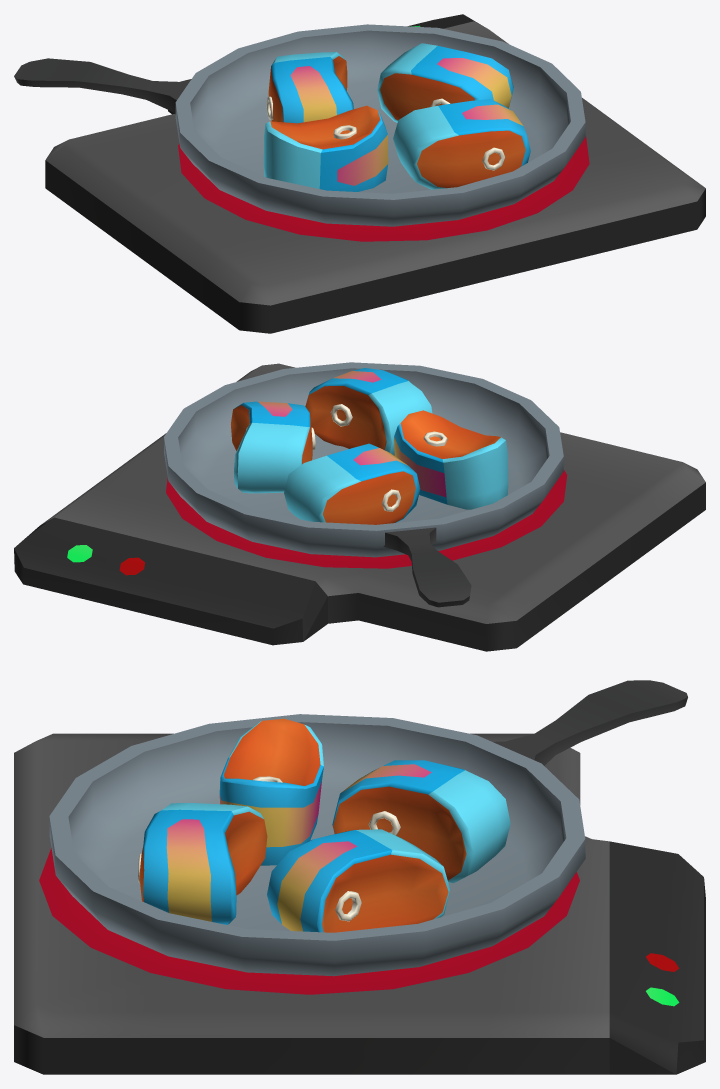
Rendered from Station Panfried fish.fbx.
3 views of the same model, one above another, from view 1: azimuth 30°, elevation 25°; view 2: azimuth 150°, elevation 25°; view 3: azimuth 270°, elevation 25° (orthographic). The views are drawn at different scales.
Parts seen in each view (by area): view 1: Station_Panfried_Fish; view 2: Station_Panfried_Fish; view 3: Station_Panfried_Fish.
Part boxes in pixels (x1,y1,x2,y2): Station_Panfried_Fish: (14,14,705,333); Station_Panfried_Fish: (14,362,705,651); Station_Panfried_Fish: (14,680,705,1074).
Bounding box in the file's own units: 187 × 40.93 × 184.
